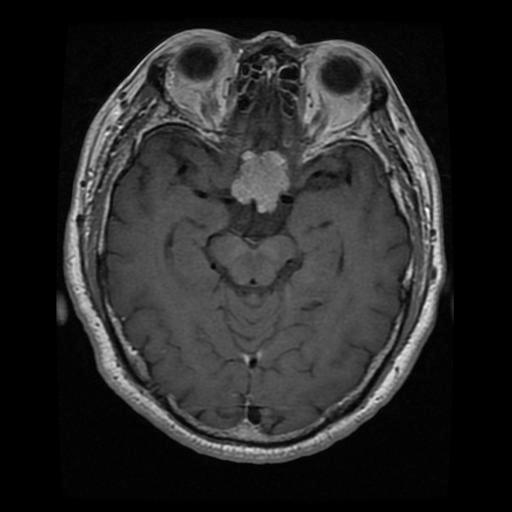Tumour-Pituitary: (227, 150, 291, 214)
